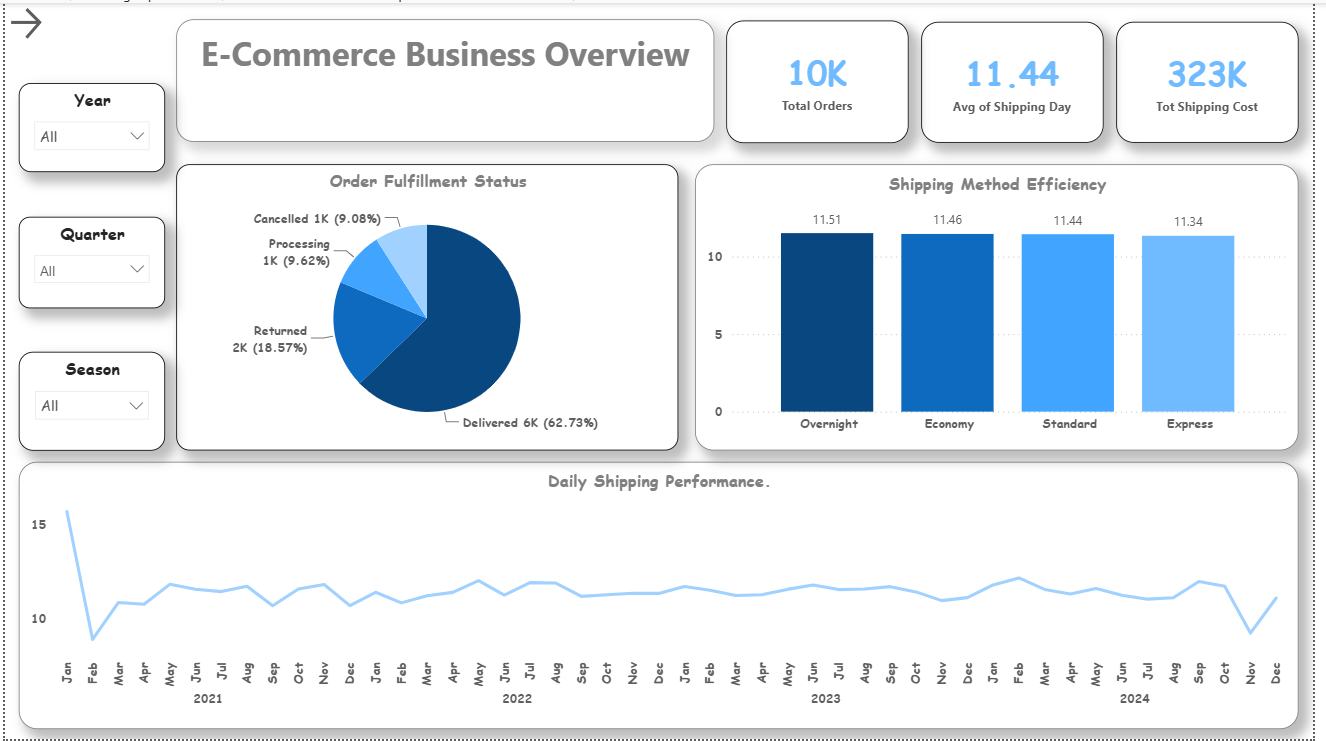

The dashboard page shown, as its layout file describes it:
{"tool":"powerbi","page":{"name":"Operations Overview","canvas":[1280,720],"ordinal":0},"visuals":[{"type":"cardVisual","fields":{"Data":["fact_Orders.Total Orders"]},"box":[705.6,17.1,178.5,119.8],"z":0},{"type":"lineChart","title":"Daily Shipping Performance.","fields":{"Category":["dim_Date.Year","dim_Date.MonthShort"],"Y":["Avg(fact_Orders.Shipping_Days)"]},"box":[13.5,448.8,1252.2,261.7],"z":1000},{"type":"textbox","box":[167.1,15.8,526.5,119.8],"z":2000},{"type":"pieChart","title":"Order Fulfillment Status","fields":{"Category":["dim_Shipping.Order_Status"],"Y":["CountNonNull(fact_Orders.Order_ID)"]},"box":[167.4,157.8,491.3,279.9],"z":3000},{"type":"columnChart","title":"Shipping Method Efficiency","fields":{"Category":["dim_Shipping.Shipping_Method"],"Y":["Avg(fact_Orders.Shipping_Days)"]},"box":[675,157.7,590.6,280],"z":4000},{"type":"slicer","title":"Year","fields":{"Values":["dim_Date.Year"]},"box":[13.5,78.3,143.1,86.8],"z":5000},{"type":"slicer","title":"Quarter","fields":{"Values":["dim_Date.Quarter"]},"box":[13.5,209.1,143.1,89.3],"z":6000},{"type":"slicer","title":"Season","fields":{"Values":["dim_Date.Season"]},"box":[13.5,341.2,143.1,96.6],"z":7000},{"type":"actionButton","box":[0,0,100,40],"z":8000},{"type":"cardVisual","fields":{"Data":["Avg(fact_Orders.Shipping_Days)"]},"box":[896.3,18.3,178.5,118.6],"z":9000},{"type":"cardVisual","fields":{"Data":["Sum(fact_Orders.Shipping_Cost)"]},"box":[1087.1,18.3,178.5,118.6],"z":10000}]}

Visuals, with their boxes in screenshot pixels (x1, y1, x2, y2), scaled from the page's 1280x720 canvas onto the 1326x741 screenshot:
cardVisual - fact_Orders.Total Orders: <box>731,18,916,141</box>
"Daily Shipping Performance." lineChart: <box>14,462,1311,731</box>
textbox: <box>173,16,719,140</box>
"Order Fulfillment Status" pieChart: <box>173,162,682,450</box>
"Shipping Method Efficiency" columnChart: <box>699,162,1311,450</box>
"Year" slicer: <box>14,81,162,170</box>
"Quarter" slicer: <box>14,215,162,307</box>
"Season" slicer: <box>14,351,162,451</box>
actionButton: <box>0,0,104,41</box>
cardVisual - Avg(fact_Orders.Shipping_Days): <box>929,19,1113,141</box>
cardVisual - Sum(fact_Orders.Shipping_Cost): <box>1126,19,1311,141</box>
